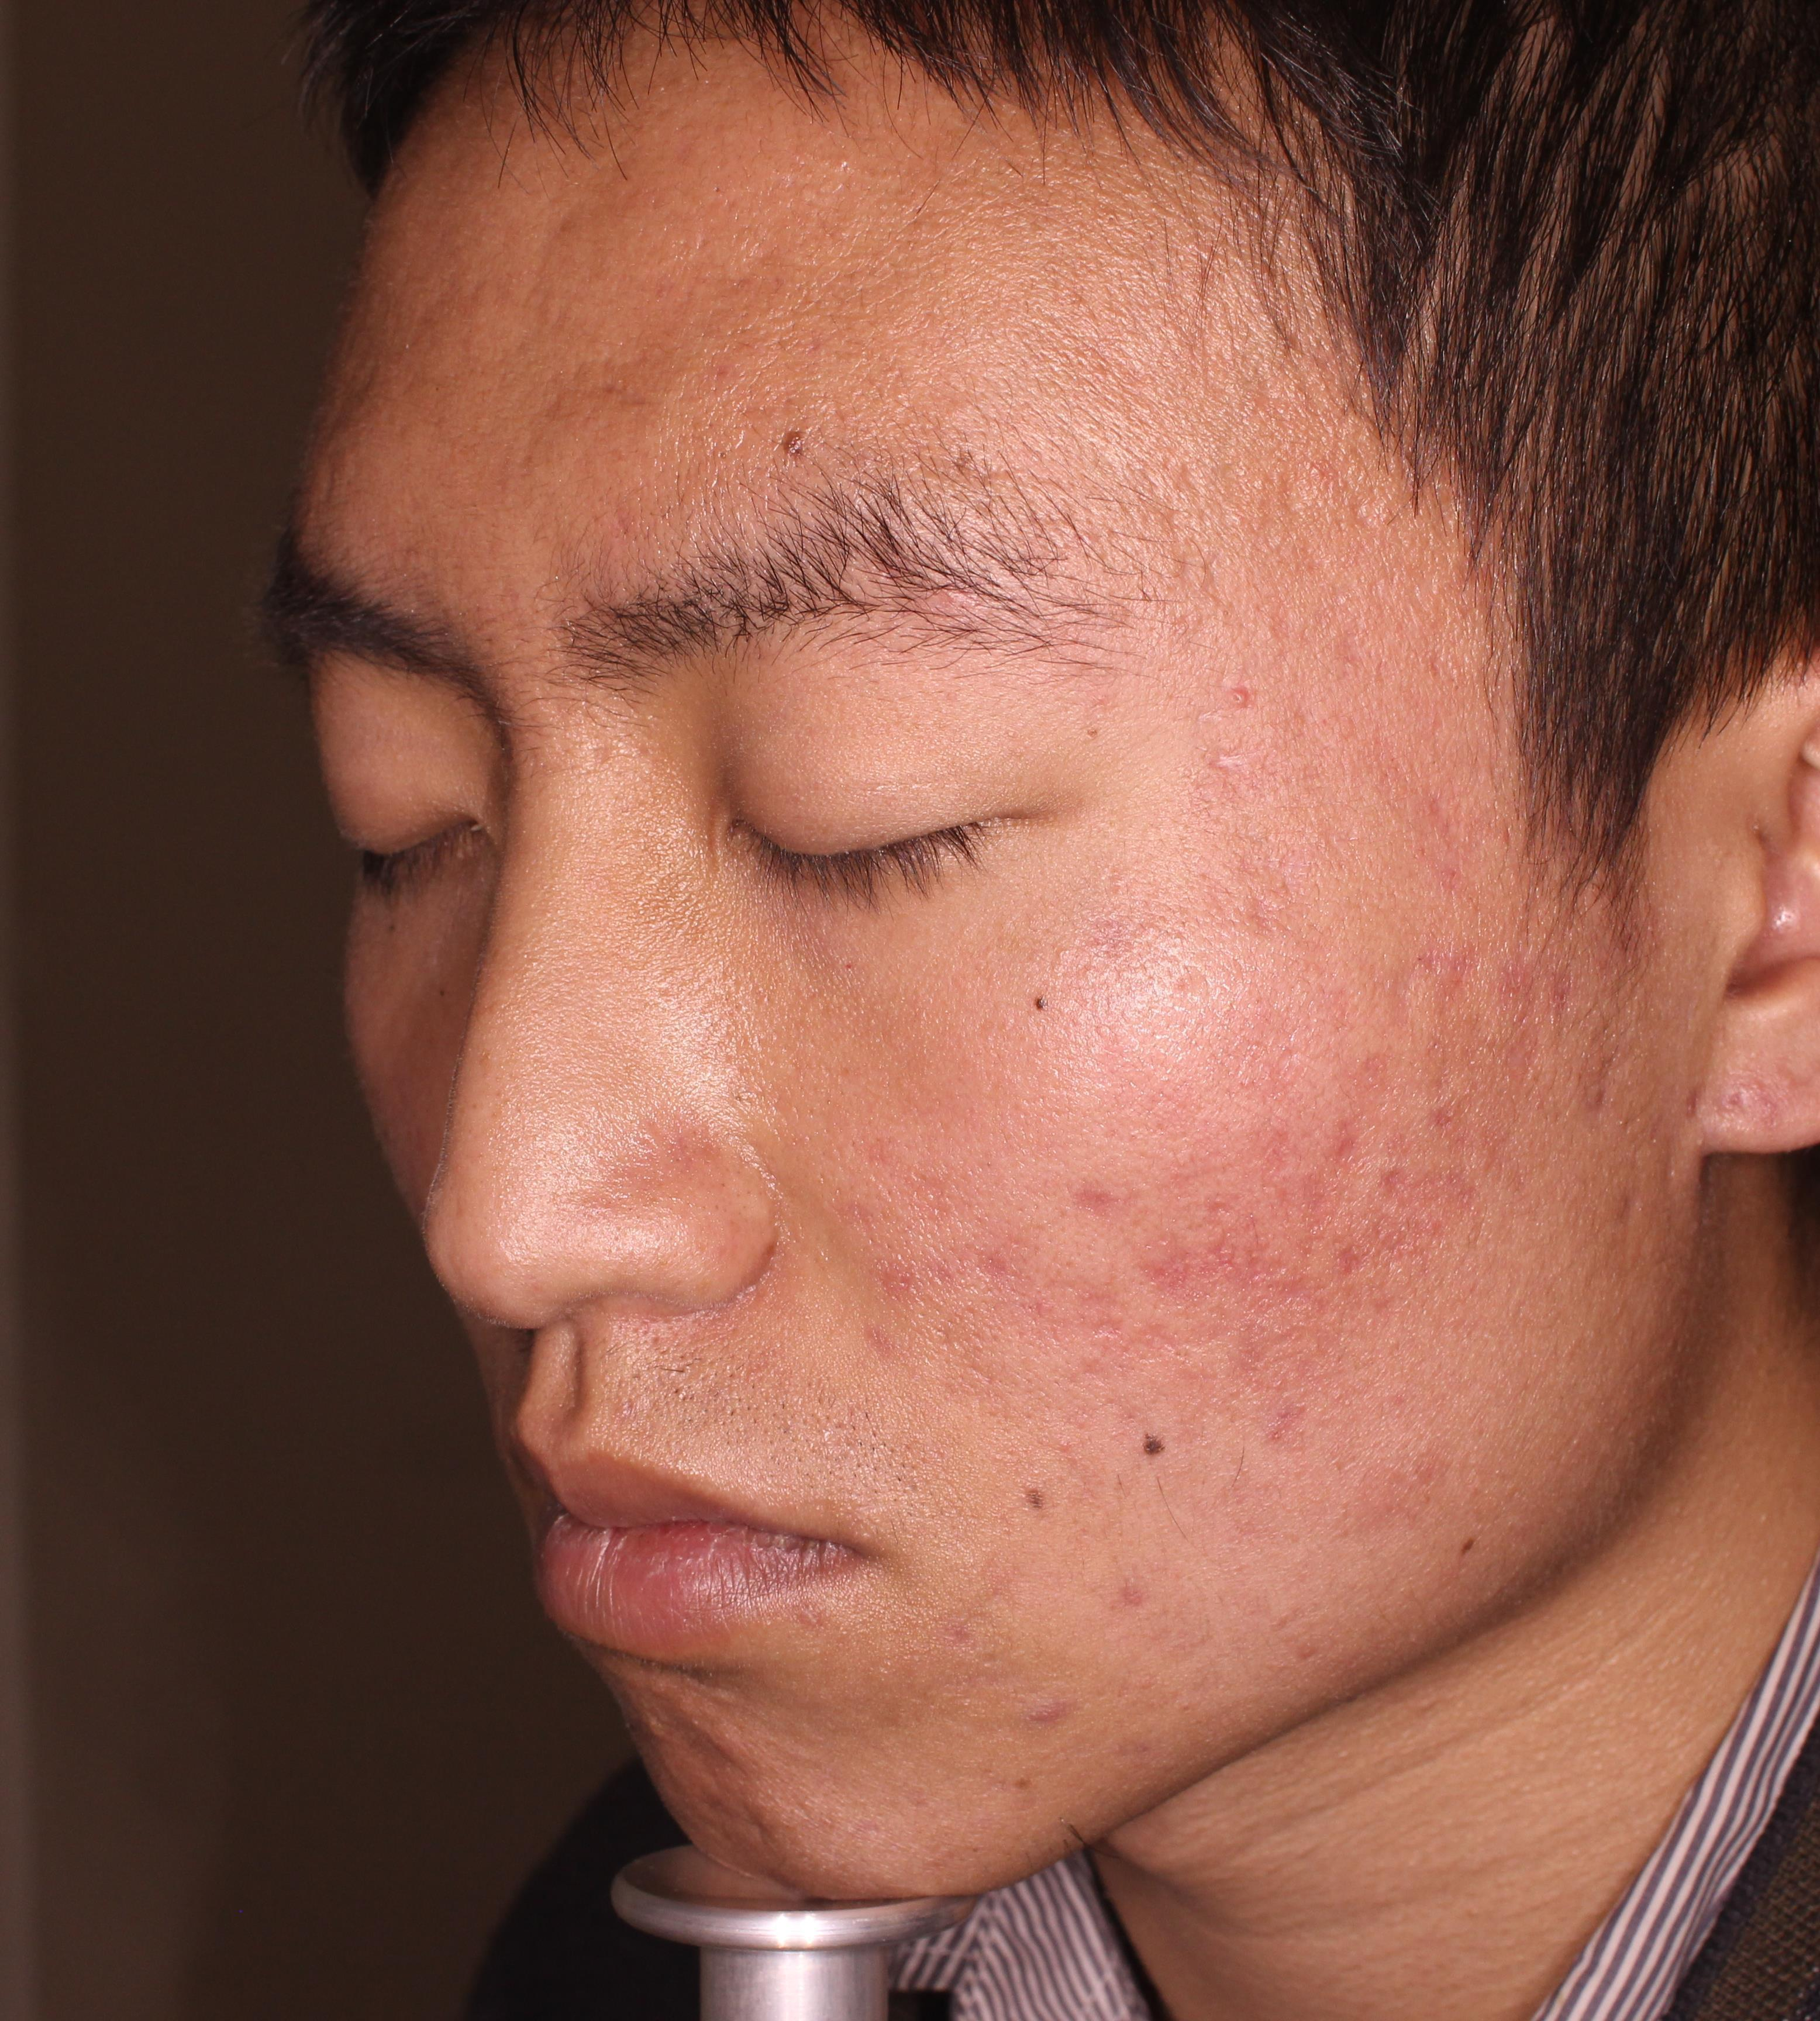fore: (1247, 1375, 1346, 1487), (1054, 1145, 1161, 1240), (1314, 1185, 1395, 1303), (852, 1217, 938, 1320), (1319, 1075, 1404, 1173), (1131, 1226, 1202, 1343), (1219, 1217, 1288, 1315), (1022, 1687, 1077, 1759)
